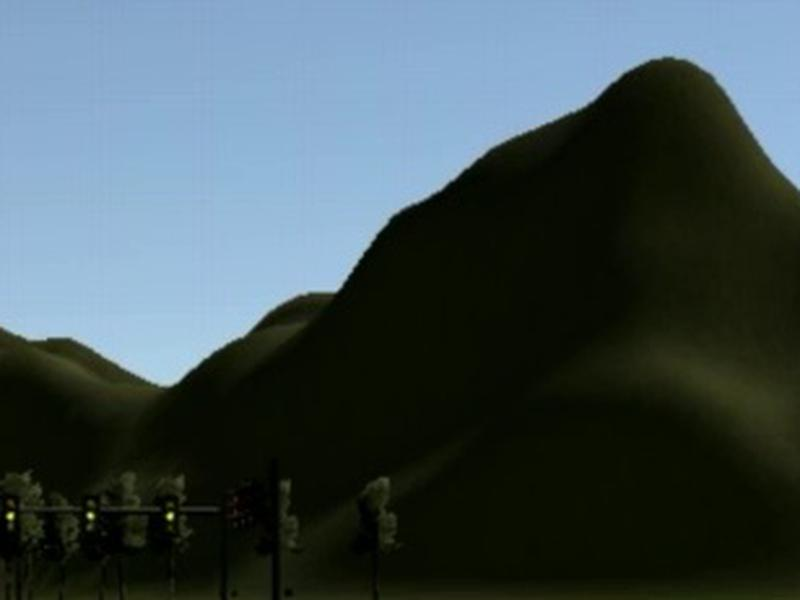Yellow: (2, 493, 21, 538), (161, 494, 179, 535), (83, 495, 101, 535)
